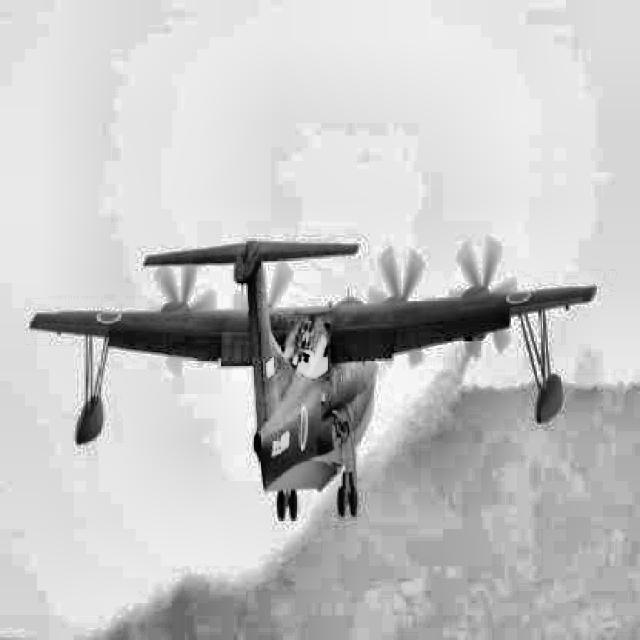US2: (29, 238, 598, 520)
